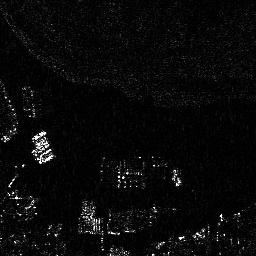ship: (21, 85, 37, 118)
